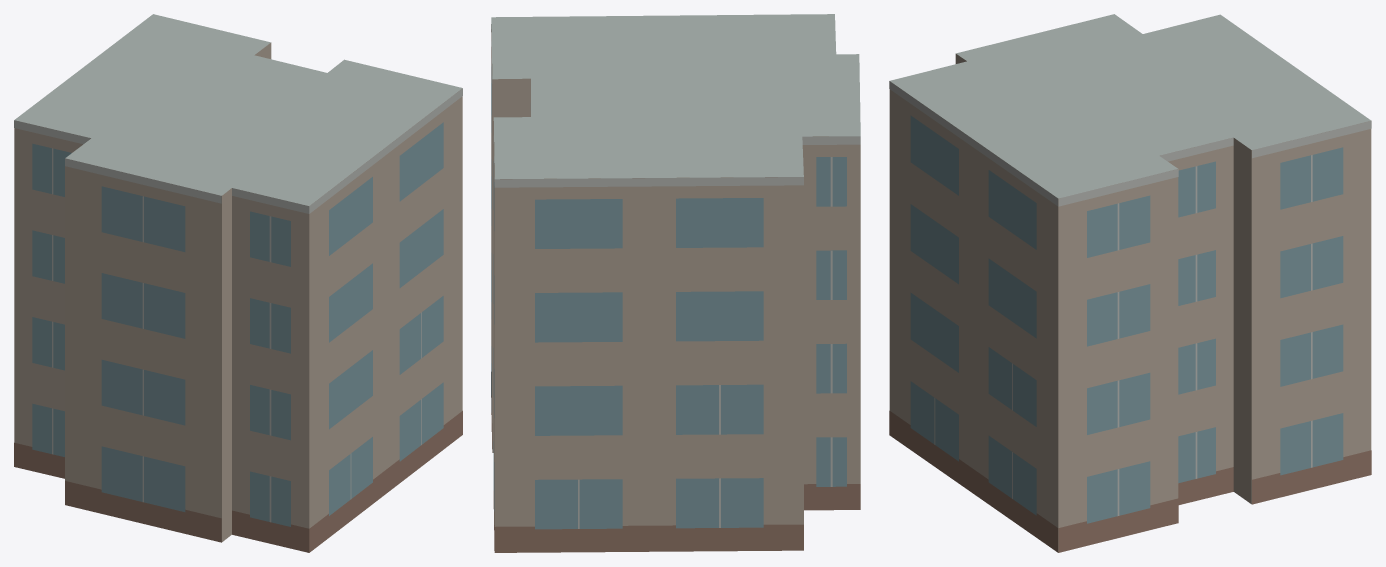
The model's file is survey-upis-32538266.glb.
3 views of the same model, side by side, from view 1: azimuth 30°, elevation 25°; view 2: azimuth 150°, elevation 25°; view 3: azimuth 270°, elevation 25° (orthographic). The views are drawn at different scales.
Parts seen in each view (by area): view 1: survey-upis-32538266.tmp; view 2: survey-upis-32538266.tmp; view 3: survey-upis-32538266.tmp.
Boxes of the visible parts, bbox=[...] form: survey-upis-32538266.tmp: bbox=[14, 14, 462, 552]; survey-upis-32538266.tmp: bbox=[491, 14, 860, 552]; survey-upis-32538266.tmp: bbox=[889, 14, 1371, 552].
Size of the model in its own units: 11.97 by 10.7 by 13.2.
